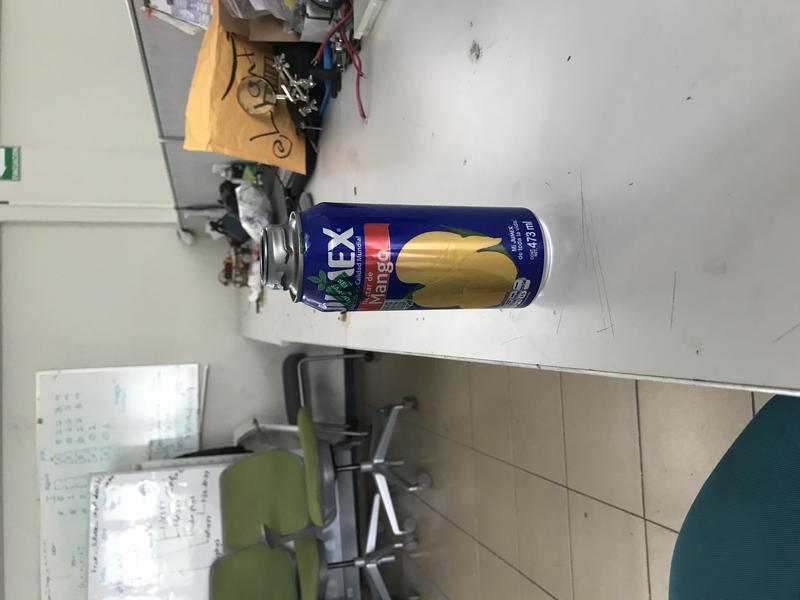jumex_botella: (256, 201, 556, 314)
